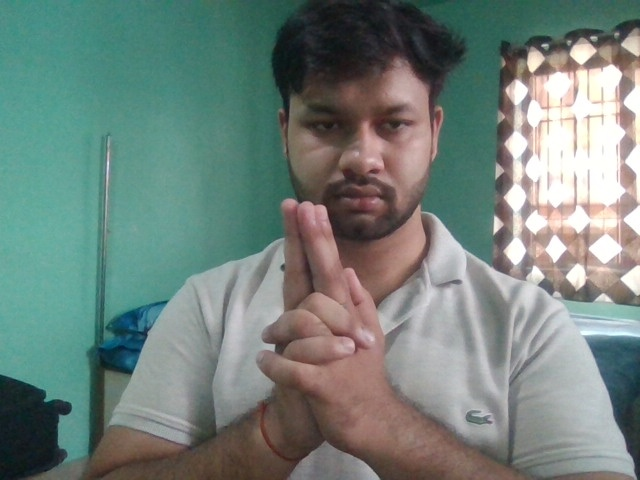1000 Years of Death: (235, 190, 412, 463)
